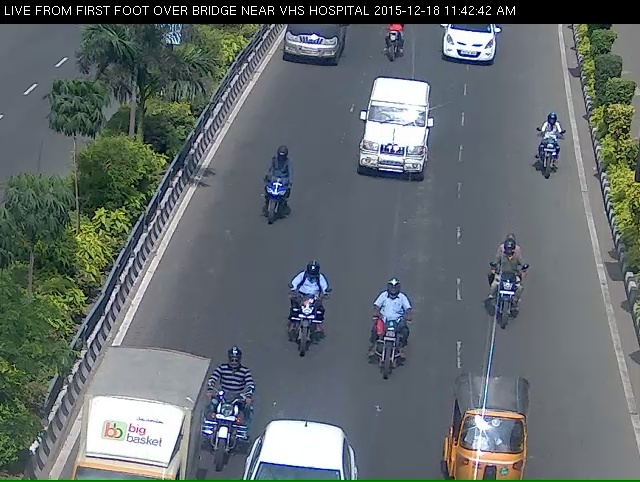Auto: (69, 364, 198, 479), (458, 400, 537, 482)
Car: (361, 84, 430, 195), (278, 19, 348, 72), (439, 18, 502, 76)
Person: (365, 294, 418, 410), (472, 254, 533, 347), (280, 289, 327, 389), (203, 386, 247, 481), (252, 160, 292, 258), (535, 123, 565, 194), (372, 19, 400, 73)
